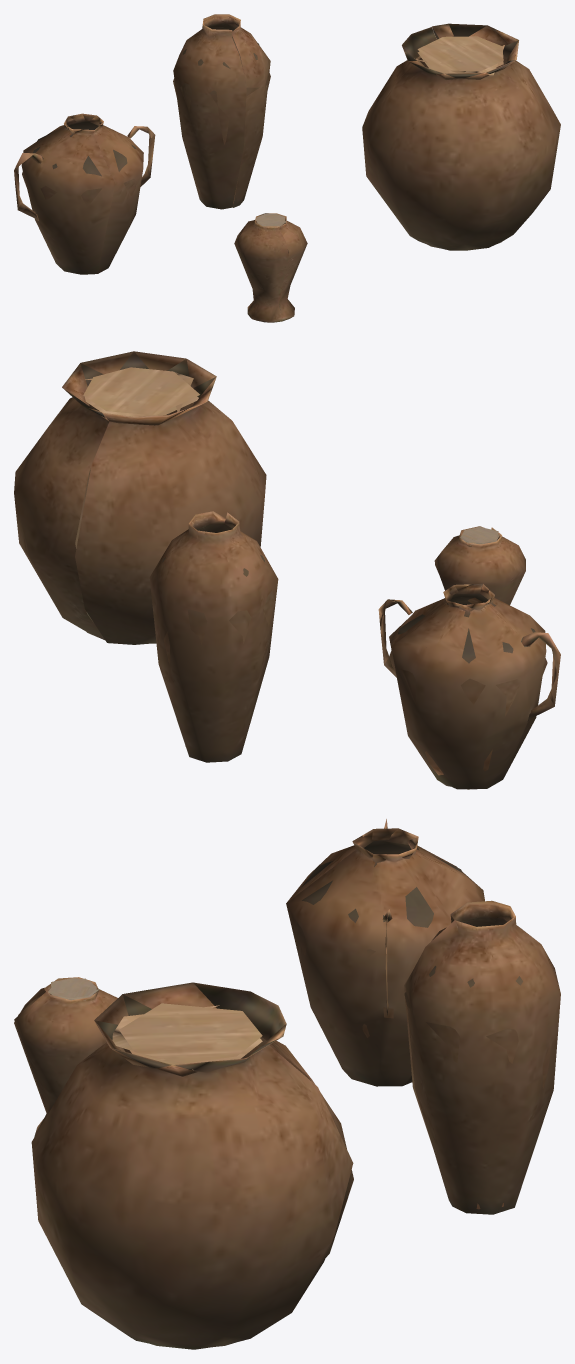
The model's file is vasi.glb.
The picture shows the model from 3 angles, top to bottom: view 1: azimuth 30°, elevation 25°; view 2: azimuth 150°, elevation 25°; view 3: azimuth 270°, elevation 25°; orthographic projection. The views are drawn at different scales.
Parts seen in each view (by area): view 1: Pot_Large-Lid, Pot_Handles, Pot_SkinnyTall, Pot_Small-Lid, Lid_Large; view 2: Pot_Large-Lid, Pot_Handles, Pot_SkinnyTall, Lid_Large, Pot_Small-Lid, Lid_Small; view 3: Pot_Large-Lid, Pot_SkinnyTall, Pot_Handles, Lid_Large, Pot_Small-Lid, Lid_Small.
Boxes of the visible parts, left/top/right/bottom form: Pot_Large-Lid: left=362, top=23, right=560, bottom=250; Pot_Handles: left=14, top=113, right=155, bottom=274; Pot_SkinnyTall: left=173, top=14, right=270, bottom=209; Pot_Small-Lid: left=234, top=213, right=307, bottom=322; Lid_Large: left=414, top=36, right=504, bottom=75; Pot_Large-Lid: left=14, top=351, right=266, bottom=644; Pot_Handles: left=378, top=583, right=560, bottom=789; Pot_SkinnyTall: left=149, top=511, right=278, bottom=762; Lid_Large: left=83, top=367, right=199, bottom=416; Pot_Small-Lid: left=434, top=526, right=525, bottom=605; Lid_Small: left=460, top=526, right=499, bottom=545; Pot_Large-Lid: left=31, top=982, right=353, bottom=1349; Pot_SkinnyTall: left=404, top=900, right=560, bottom=1214; Pot_Handles: left=286, top=819, right=484, bottom=1086; Lid_Large: left=112, top=1003, right=262, bottom=1070; Pot_Small-Lid: left=14, top=977, right=117, bottom=1136; Lid_Small: left=48, top=977, right=100, bottom=1000.
Size of the model in its own units: 184 by 68.42 by 115.
Materials: 1 (1 with a texture image).
